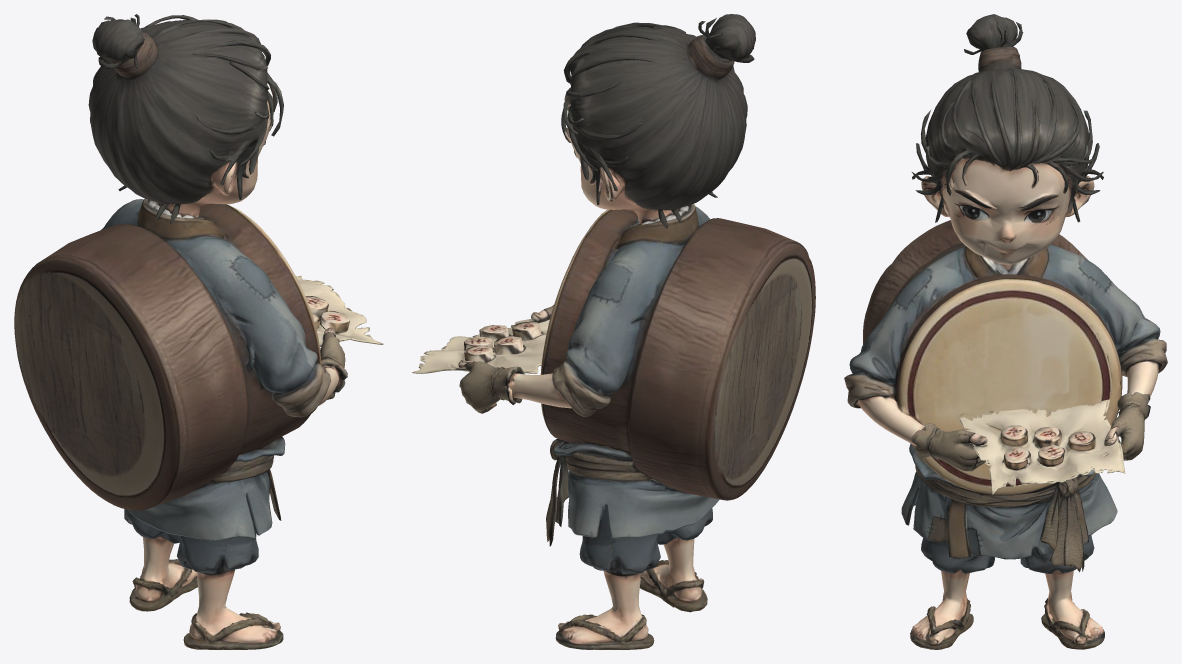
Rendered from p_b1p_jiayizhuo.glb.
3 renders of one model, left to right at view 1: azimuth 30°, elevation 25°; view 2: azimuth 150°, elevation 25°; view 3: azimuth 270°, elevation 25°, orthographic. The views are drawn at different scales.
Visible parts, largest first — view 1: tripo_node_1dd8ff7f-a0ad-4127-ad60-4f67b15f7437; view 2: tripo_node_1dd8ff7f-a0ad-4127-ad60-4f67b15f7437; view 3: tripo_node_1dd8ff7f-a0ad-4127-ad60-4f67b15f7437.
Boxes of the visible parts, box(x1,y1,x2,y2) form: tripo_node_1dd8ff7f-a0ad-4127-ad60-4f67b15f7437: box(14, 14, 383, 649); tripo_node_1dd8ff7f-a0ad-4127-ad60-4f67b15f7437: box(412, 14, 815, 649); tripo_node_1dd8ff7f-a0ad-4127-ad60-4f67b15f7437: box(844, 14, 1167, 649).
Size of the model in its own units: 0.5127 by 0.9785 by 0.4964.
1 material, 1 textured.
